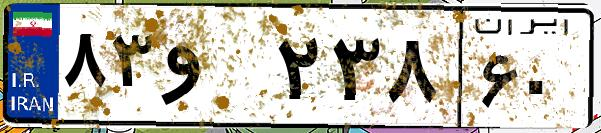0: (525, 38, 570, 115)
2: (270, 28, 330, 110)
3: (330, 28, 385, 110), (110, 28, 158, 98)
6: (475, 38, 525, 113)
8: (385, 28, 445, 110), (57, 26, 110, 100)
و: (158, 20, 270, 120)
